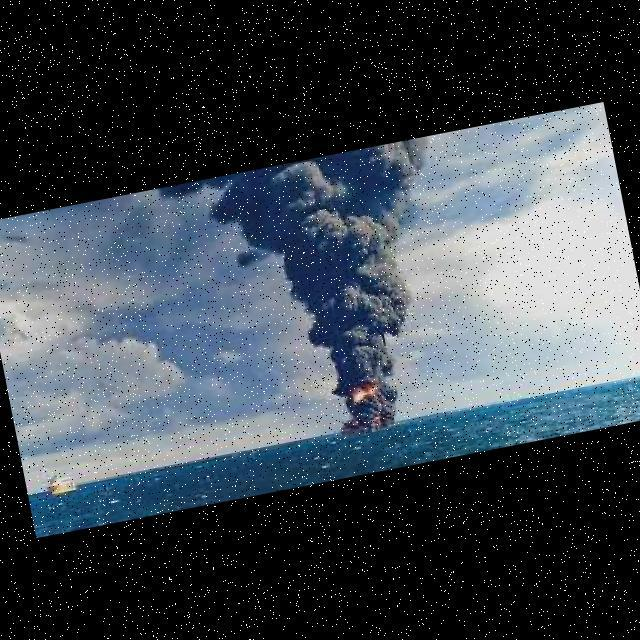Fire: (351, 380, 382, 401), (51, 480, 78, 493)
Smoke: (255, 134, 456, 398)
